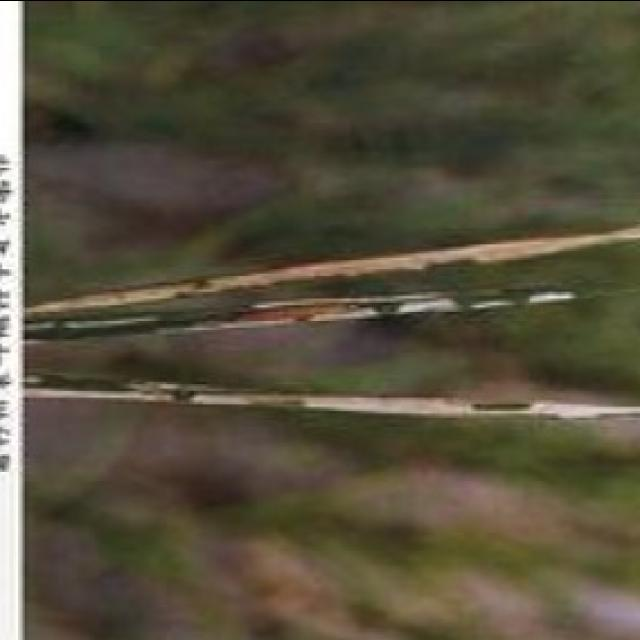rice leaf roller: (29, 226, 640, 313), (27, 383, 640, 419), (146, 293, 579, 334)
